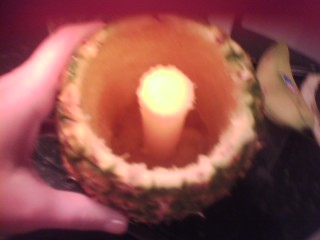pineapple: (53, 16, 264, 223)
